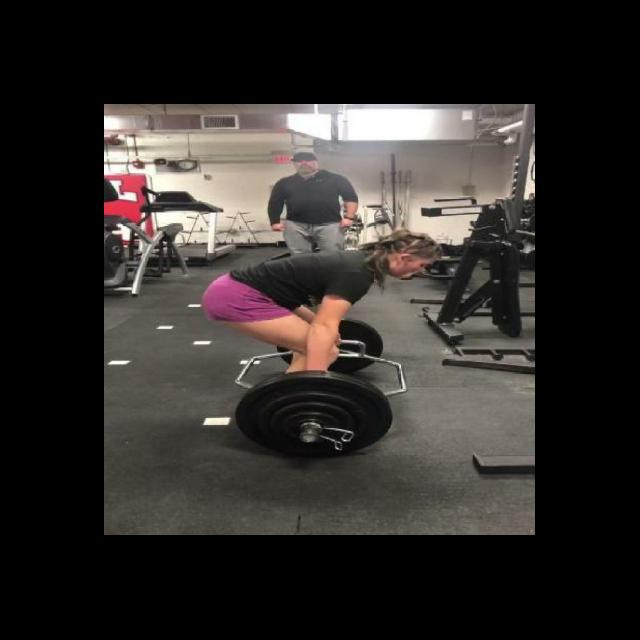barbell: (233, 370, 394, 464)
